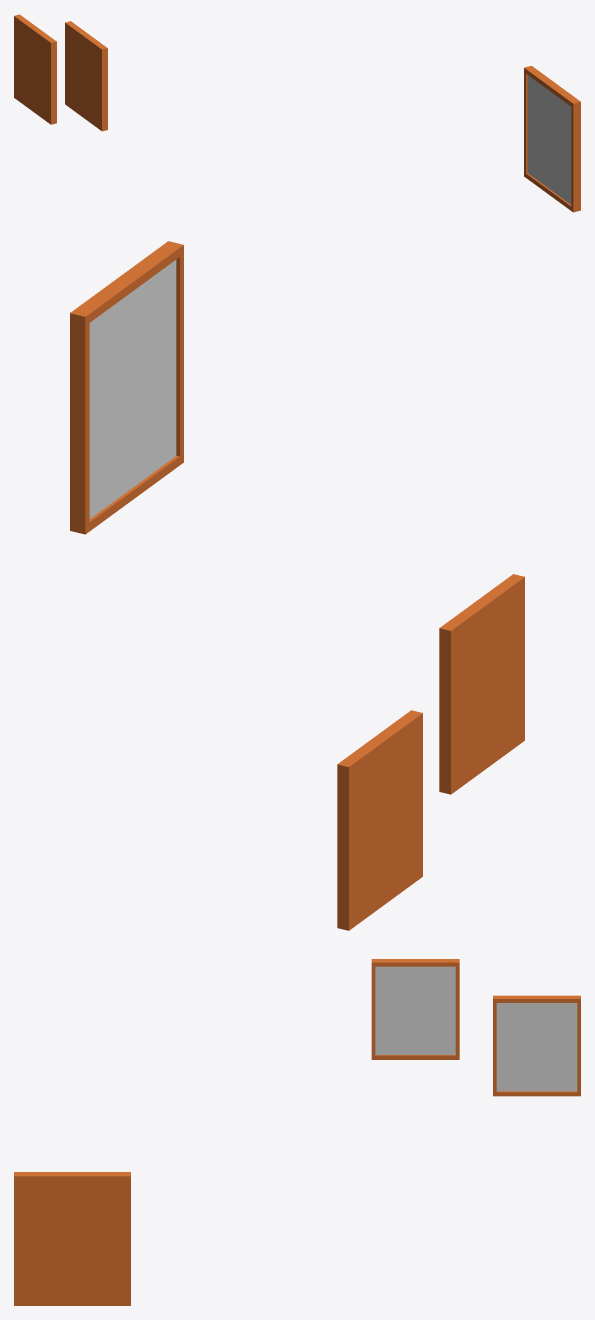
The model's file is photoFrame.fbx.
3 views of the same model, one above another, from view 1: azimuth 30°, elevation 25°; view 2: azimuth 150°, elevation 25°; view 3: azimuth 270°, elevation 25° (orthographic). The views are drawn at different scales.
Visible parts, largest first — view 1: album frame2, pic1; view 2: album frame2, pic1; view 3: album frame2, pic1.001, pic1.002.
Part boxes in pixels (x1,y1,x2,y2): album frame2: (14,14,580,212); pic1: (527,75,571,204); album frame2: (70,241,524,930); pic1: (89,260,176,518); album frame2: (14,959,580,1305); pic1.001: (496,1003,577,1091); pic1.002: (375,966,455,1054).
Bounding box in the file's own units: 239 × 90.94 × 300.
